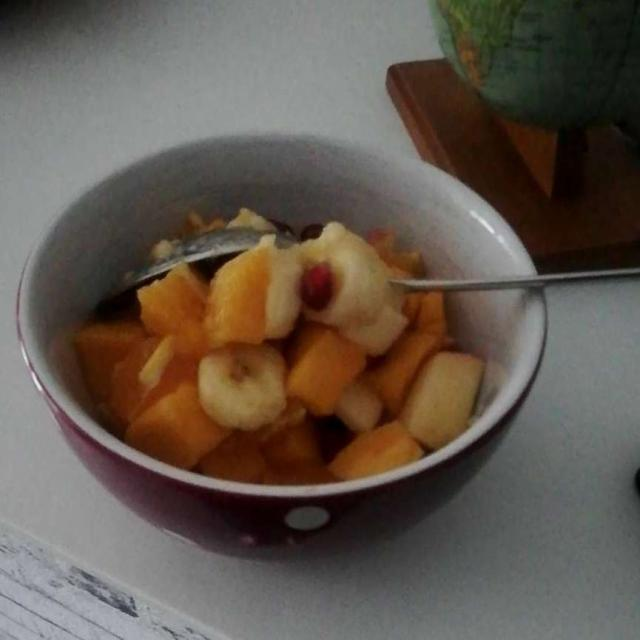fruit-salad: (75, 219, 478, 477)
